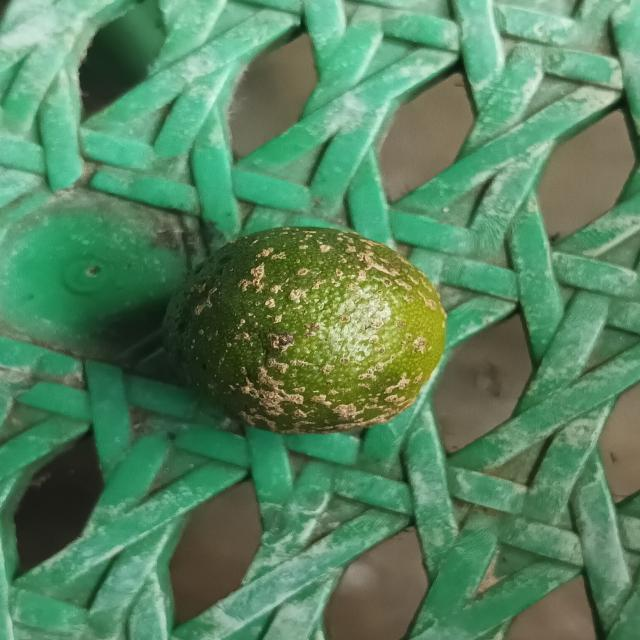scab: (163, 220, 454, 440)
